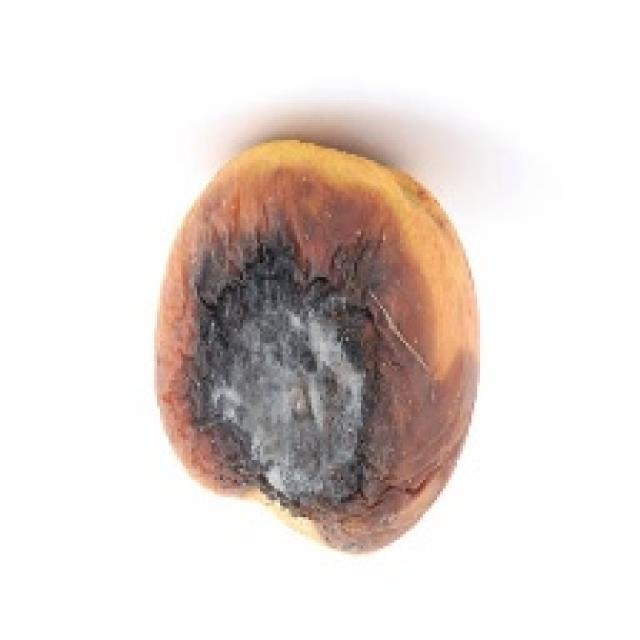rotten_apple: (159, 141, 477, 546)
